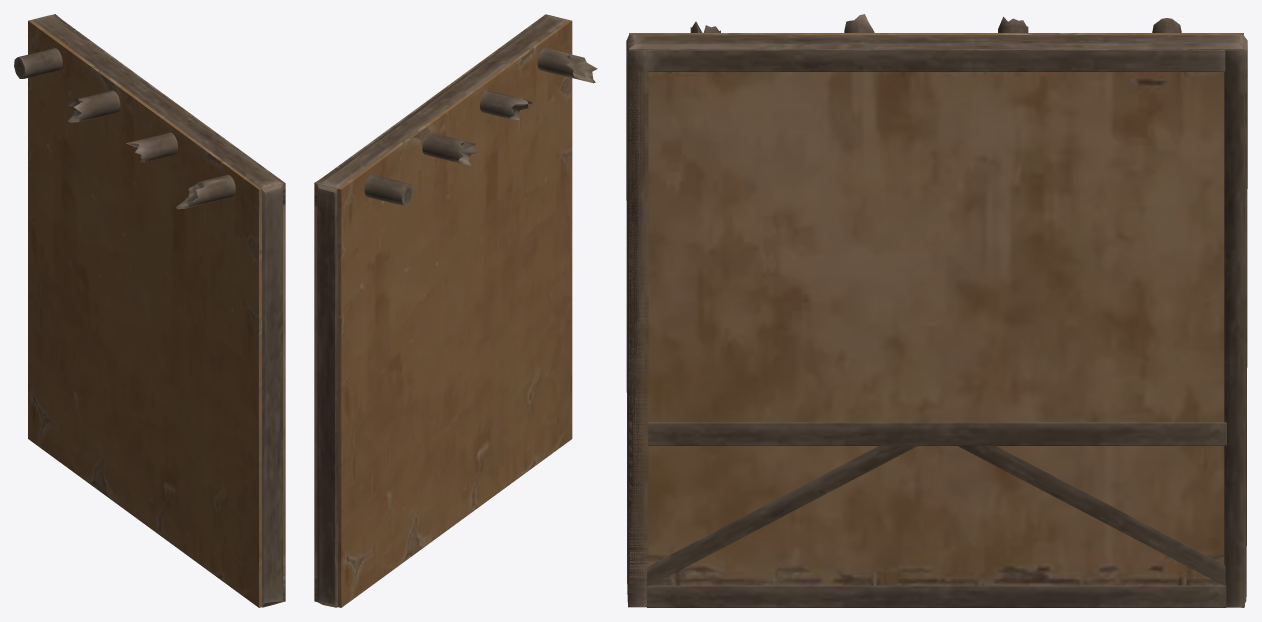
Rendered from wall.adobe.full.glb.
3 renders of one model, left to right at view 1: azimuth 30°, elevation 25°; view 2: azimuth 150°, elevation 25°; view 3: azimuth 270°, elevation 25°, orthographic. The views are drawn at different scales.
Visible parts, largest first — view 1: wall_LOD0; view 2: wall_LOD0; view 3: wall_LOD0.
Boxes of the visible parts, <box> form: wall_LOD0: <box>14,14,285,607</box>; wall_LOD0: <box>314,14,597,607</box>; wall_LOD0: <box>626,14,1247,607</box>.
Bounding box in the file's own units: 0.6016 × 3.04 × 3.03.
Materials: 1 (1 with a texture image).
